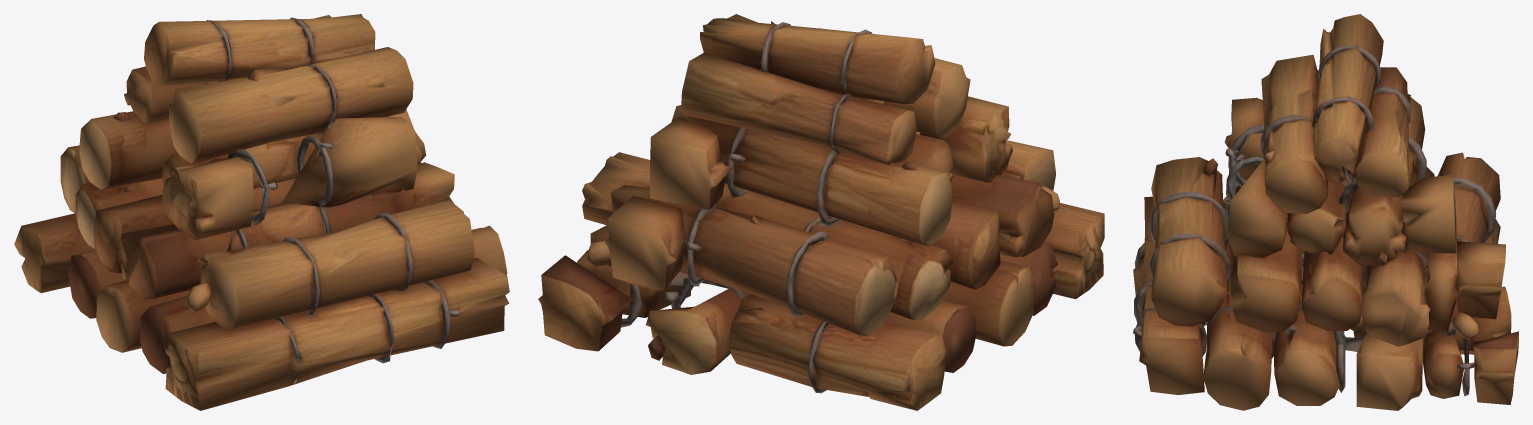
Rendered from resource_timber_pile.glb.
3 views of the same model, side by side, from view 1: azimuth 30°, elevation 25°; view 2: azimuth 150°, elevation 25°; view 3: azimuth 270°, elevation 25° (orthographic). The views are drawn at different scales.
Bounding box in the file's own units: 0.7496 × 0.6 × 0.7496.
Materials: 1 (1 with a texture image).
